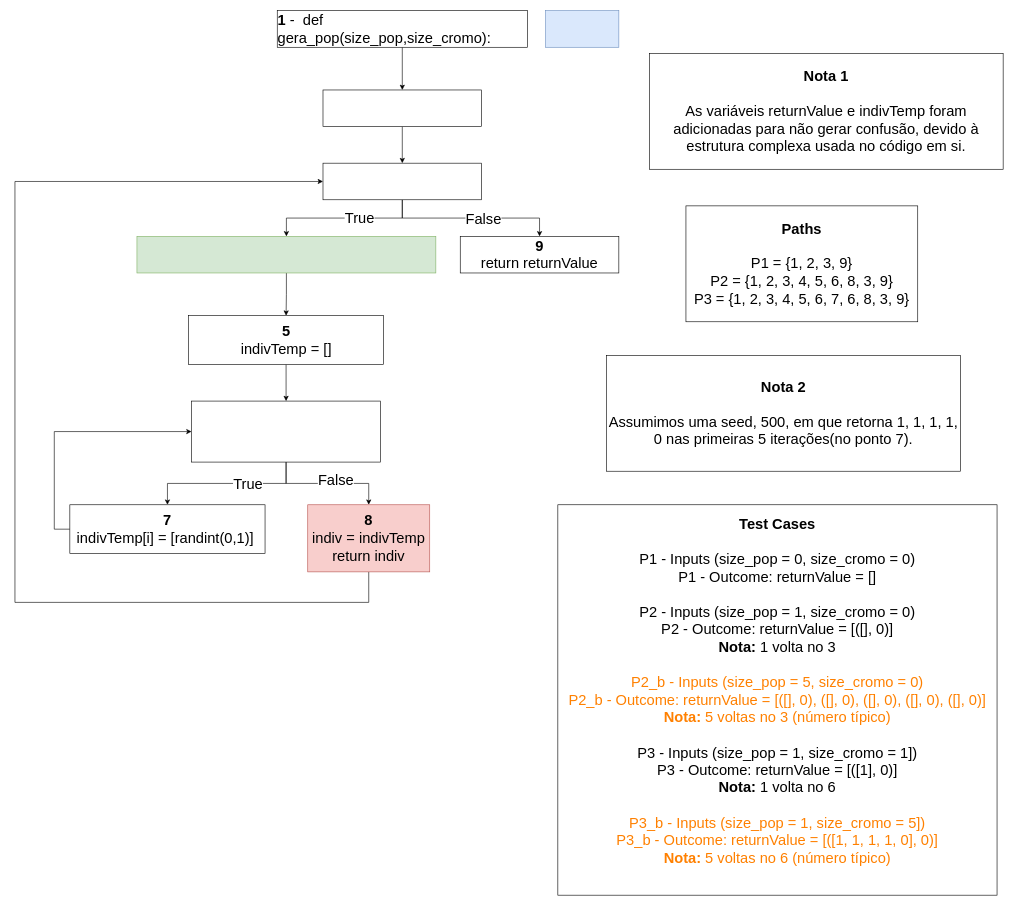
The diagram is 1014 pixels wide and 906 high, and some of its shapes have lost their labels. Here are the shapes that lost their labels. From the top down, the centre of each, then its label:
At [582,28]: "Vg = 3".
At [402,108]: "2 returnValue = []".
At [402,181]: "3 for i in range(size_pop)".
At [286,254]: "4 - returnValue[i] = (gera_indiv(size_cromo),0)".
At [286,431]: "6 for i in range(size_cromo)".
